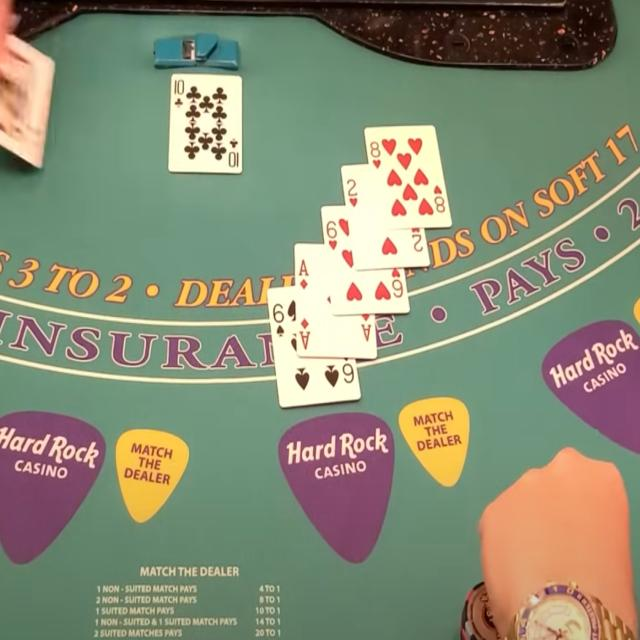10: (172, 75, 186, 97)
2: (345, 175, 361, 198)
6: (269, 300, 286, 324), (324, 218, 338, 240)
8: (368, 138, 381, 159)
A: (296, 256, 310, 278)
